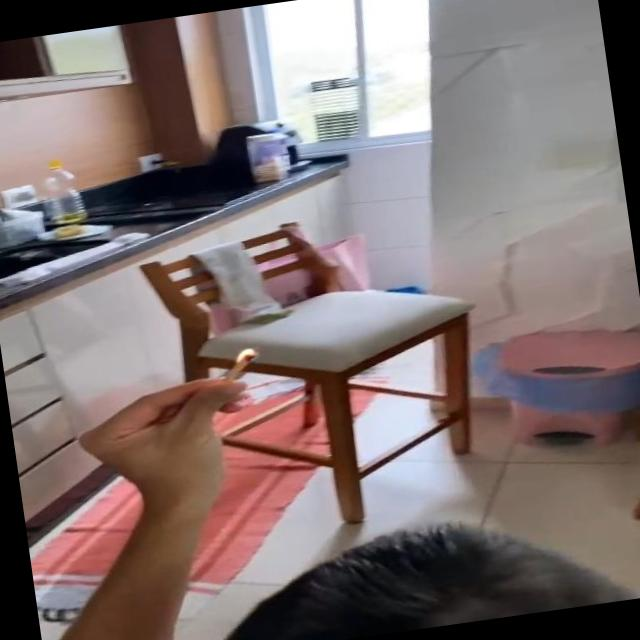Fire: (234, 342, 264, 371)
